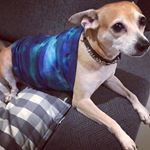puppy: (64, 1, 150, 146)
